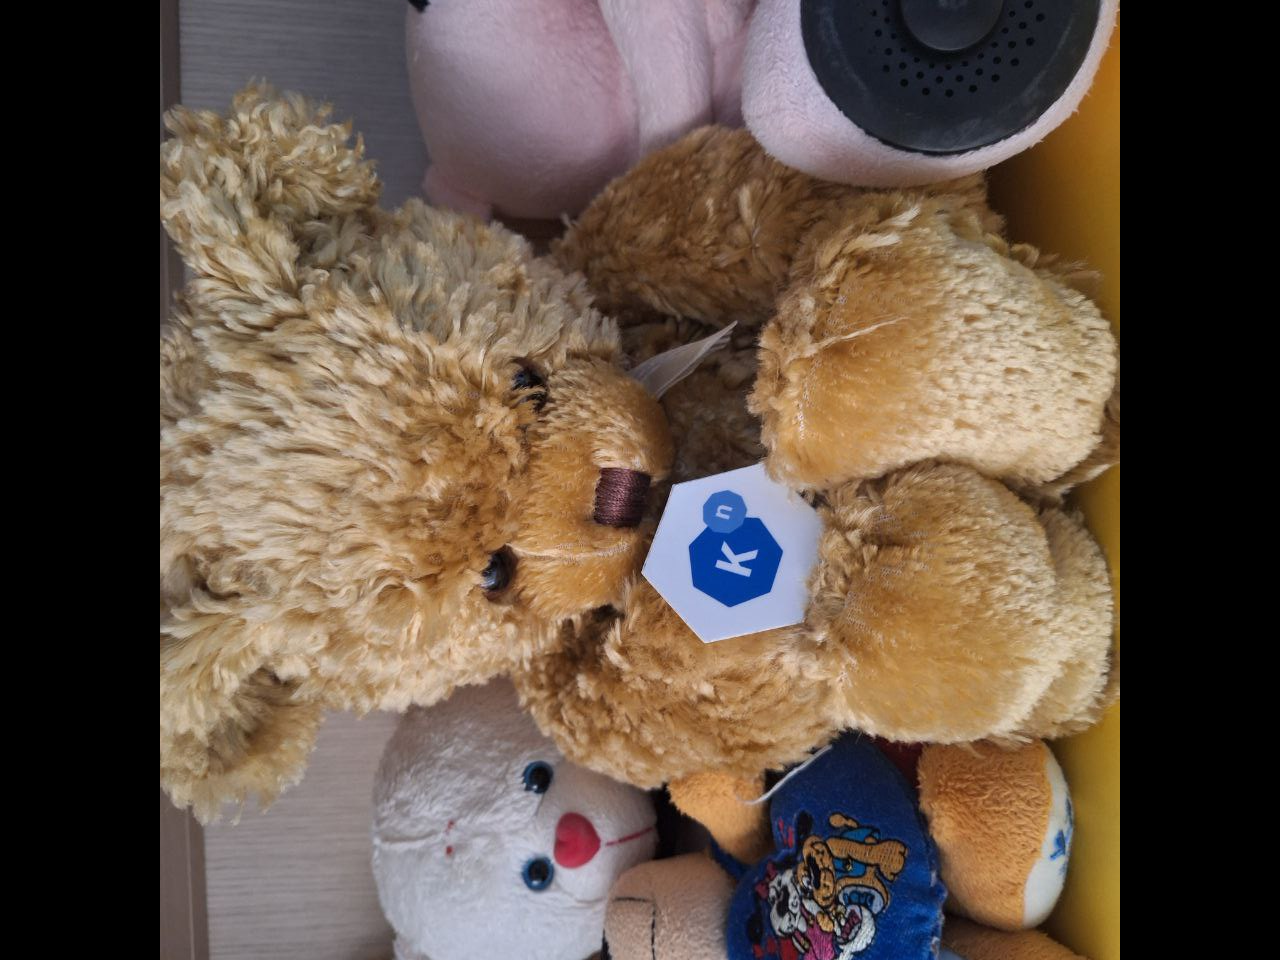knative: (687, 487, 786, 609)
